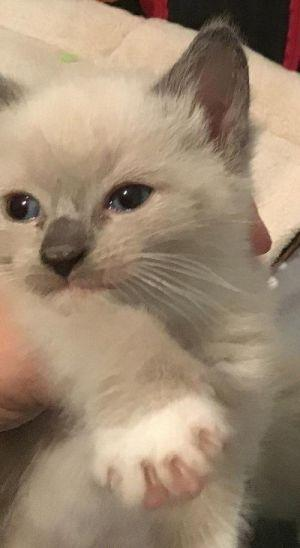siamese: (1, 10, 267, 342)
